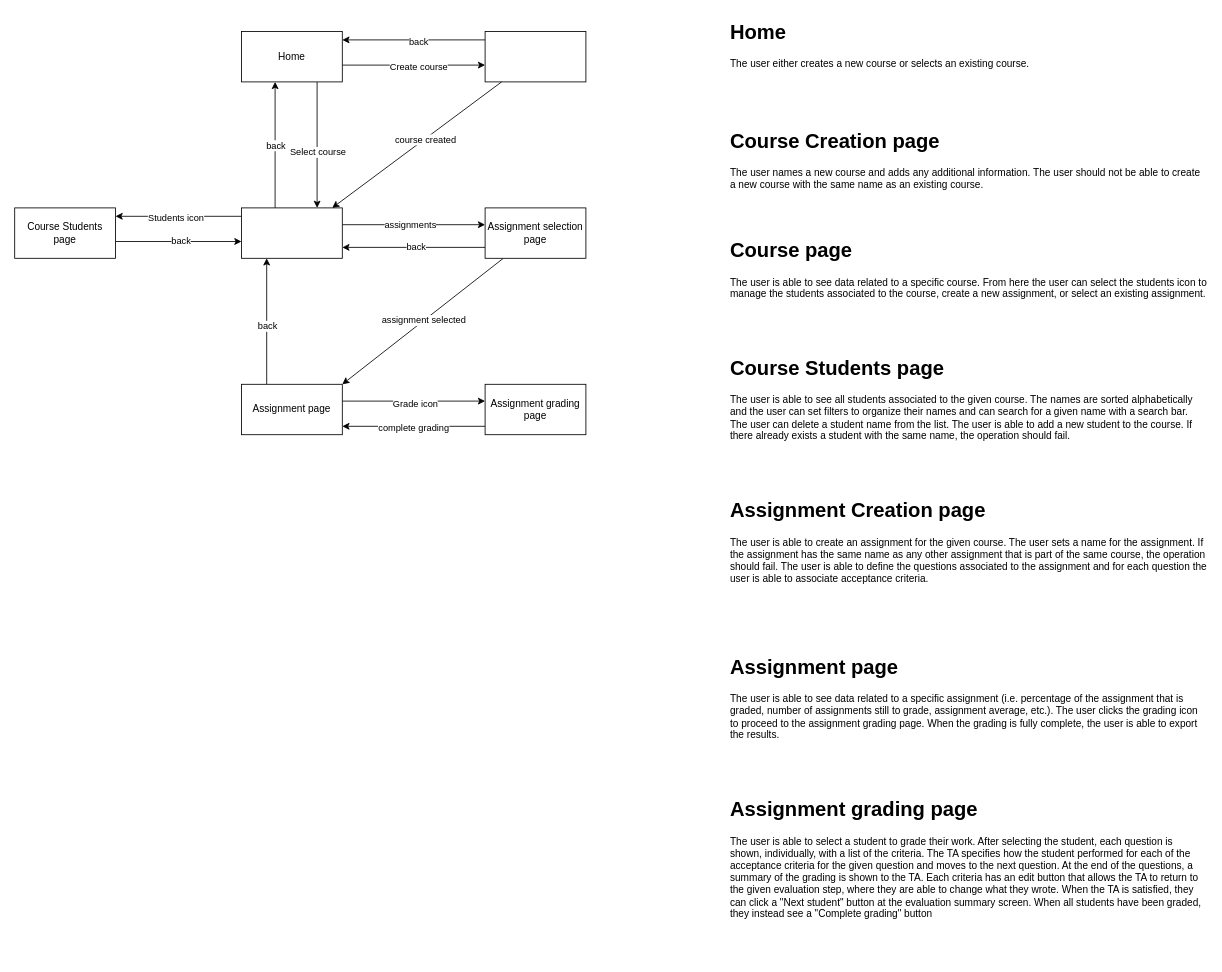
This 1222x972 diagram has some shape labels left out. The centre of each missing label's shape, as x and y in pixels:
"Course creation page" goes at pixel 535 56.
"Course page" goes at pixel 291 232.
